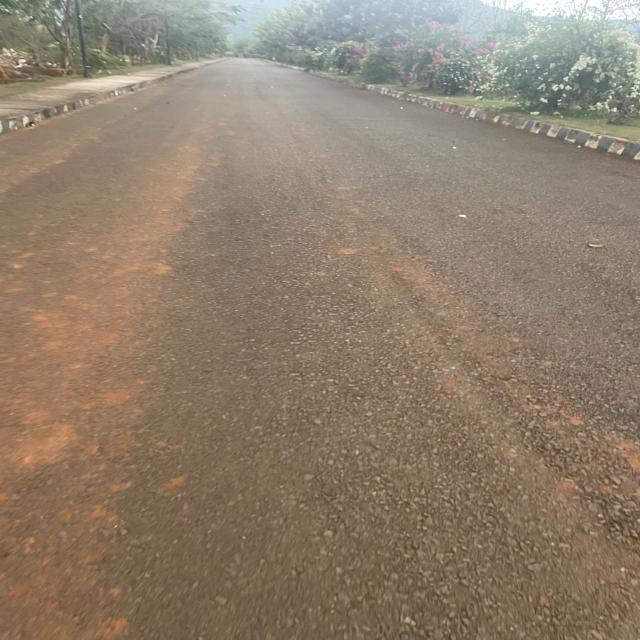D43: (354, 222, 640, 640)
